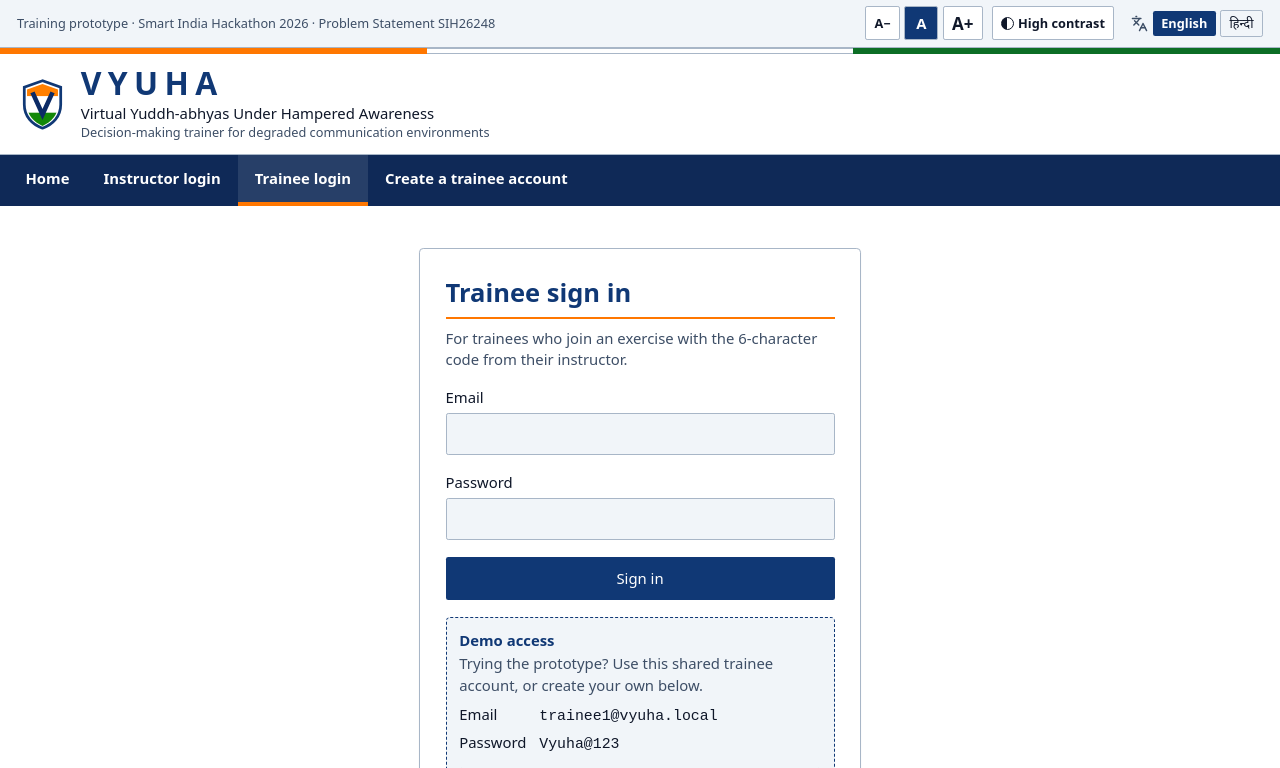
Test: two sign-in options › shows the normal message for a wrong password
Type "t@x.io" into the field labelled "Email".
click(640, 434); type("t@x.io")  # box [446,413,834,455]
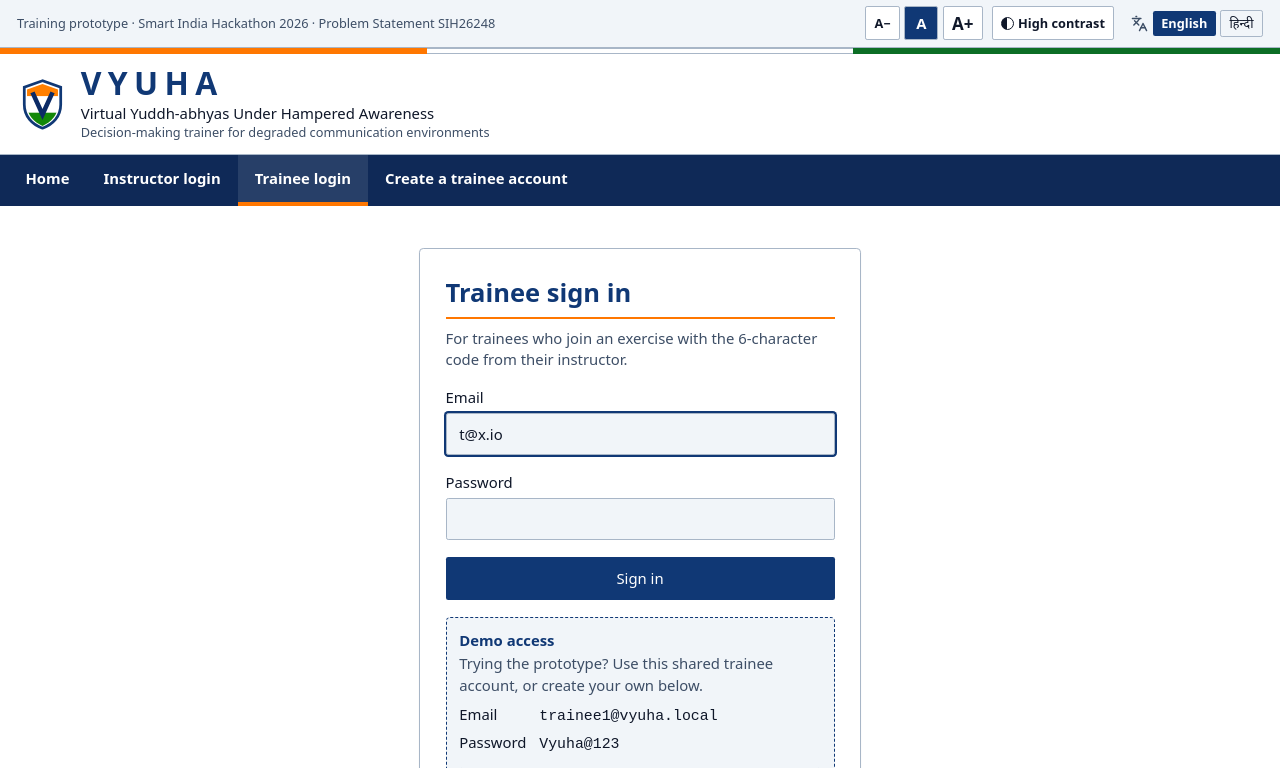
Type "wrong-password" into the password field labelled "Password".
click(640, 519); type("wrong-password")  # box [446,498,834,540]
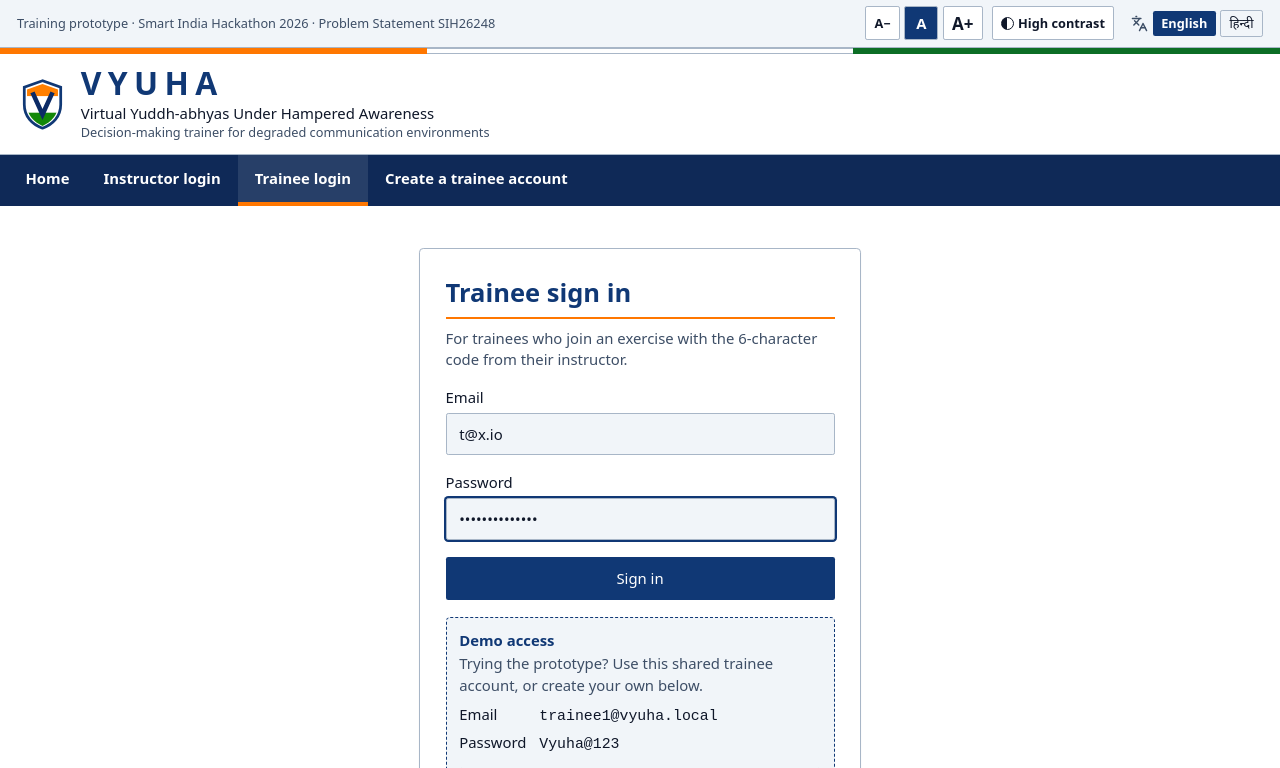
Click the button "Sign in".
click(640, 579)  # box [446,557,834,600]
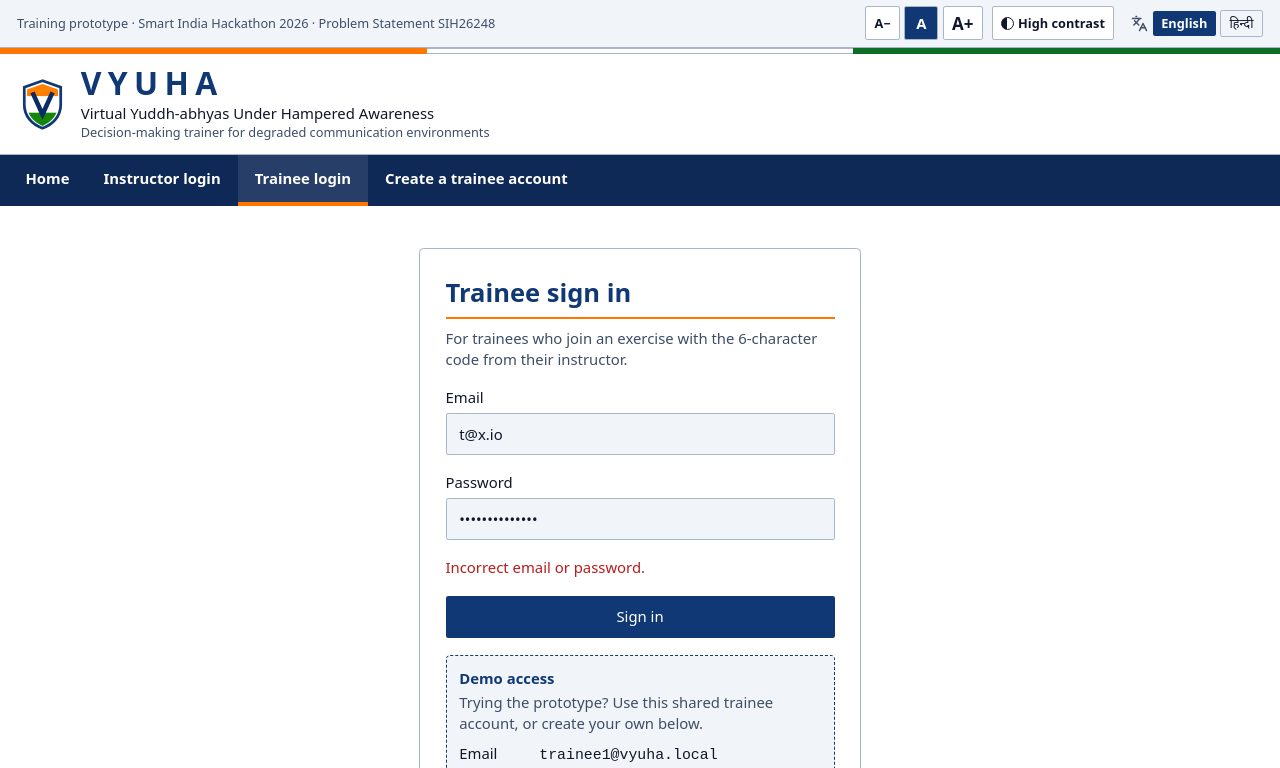
expect the message shows "Incorrect": met, box [446,557,645,577]
